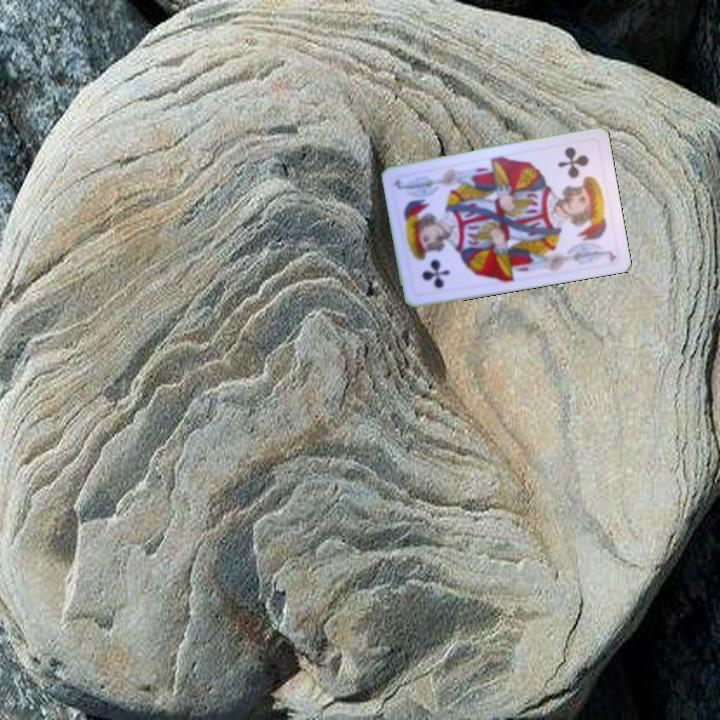c_j.png: (401, 223, 469, 298), (542, 137, 610, 212)
